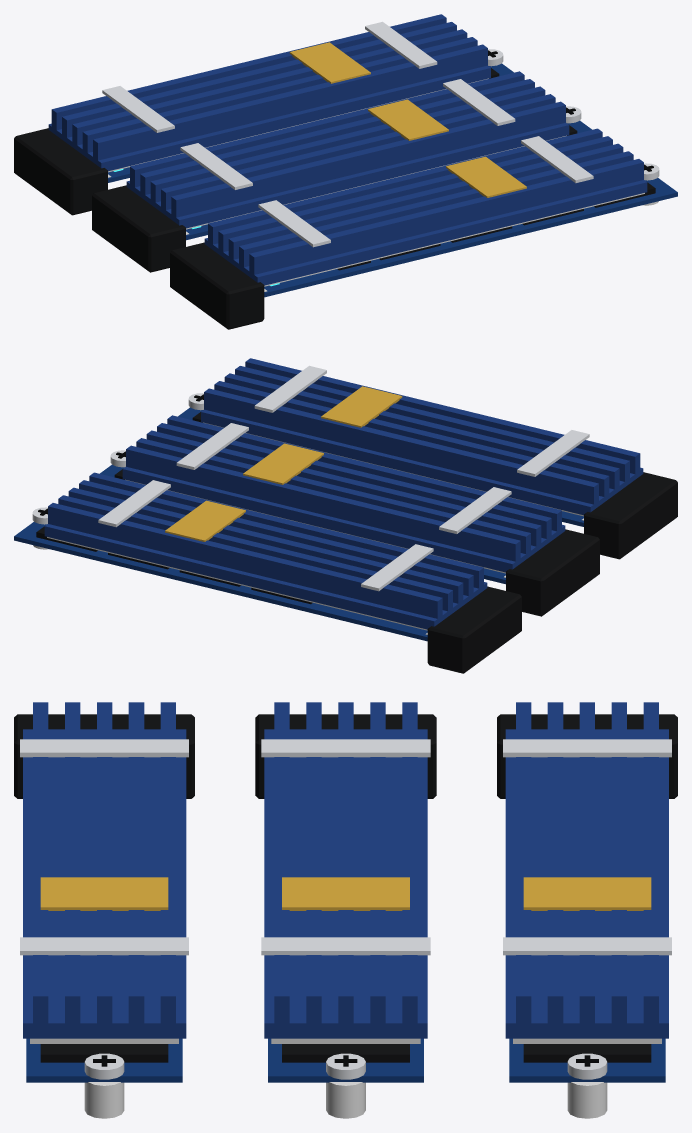
The model's file is hwm_sto_nvme3_512gb.glb.
3 renders of one model, top to bottom at view 1: azimuth 30°, elevation 25°; view 2: azimuth 150°, elevation 25°; view 3: azimuth 270°, elevation 25°, orthographic. The views are drawn at different scales.
Visible parts, largest first — view 1: SSD_2, SSD_0, SSD_1, Slots; view 2: SSD_0, SSD_2, SSD_1, Slots; view 3: SSD_0, SSD_2, SSD_1, Slots, Screw_0, Screw_2, Screw_1.
Part boxes in pixels (<box>): SSD_2: <box>204,128,677,297</box>; SSD_0: <box>48,14,513,182</box>; SSD_1: <box>126,71,591,240</box>; Slots: <box>14,63,658,329</box>; SSD_0: <box>14,472,487,641</box>; SSD_2: <box>178,358,643,526</box>; SSD_1: <box>100,415,565,584</box>; Slots: <box>33,407,677,673</box>; SSD_0: <box>503,702,671,1082</box>; SSD_2: <box>20,702,188,1082</box>; SSD_1: <box>261,702,430,1082</box>; Slots: <box>14,714,677,1118</box>; Screw_0: <box>567,1053,607,1079</box>; Screw_2: <box>84,1053,124,1079</box>; Screw_1: <box>326,1053,365,1079</box>.
Size of the model in its own units: 0.1155 by 0.0154 by 0.0935.
